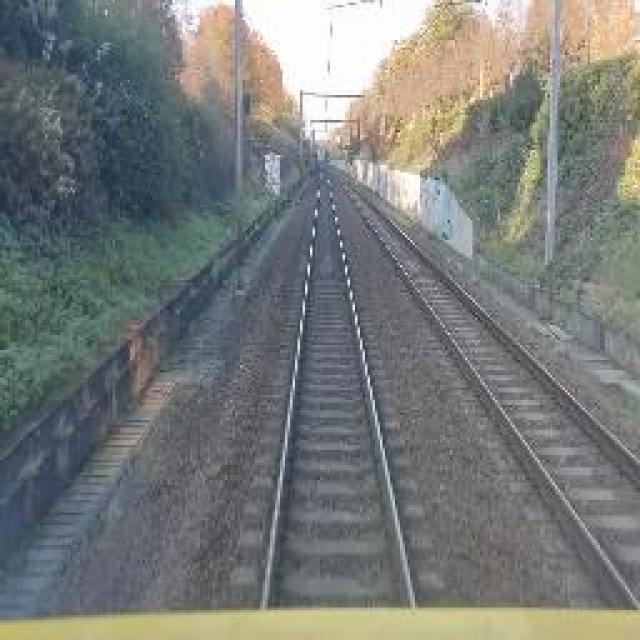rail: (223, 166, 444, 614)
